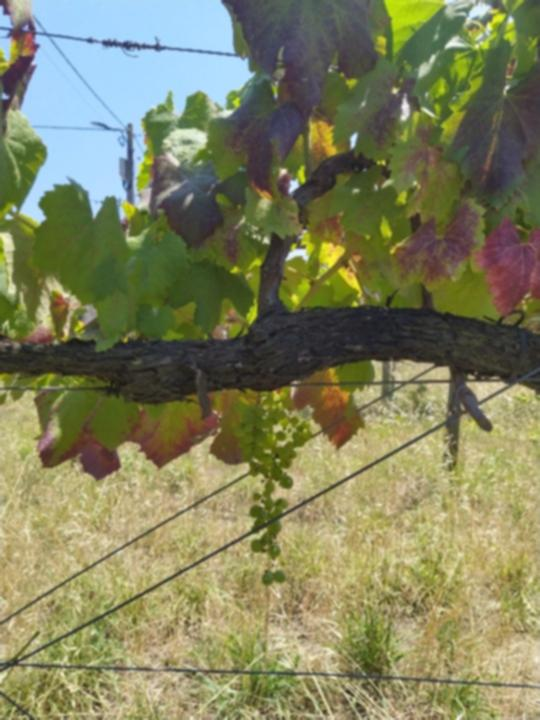grape: (232, 389, 317, 592)
